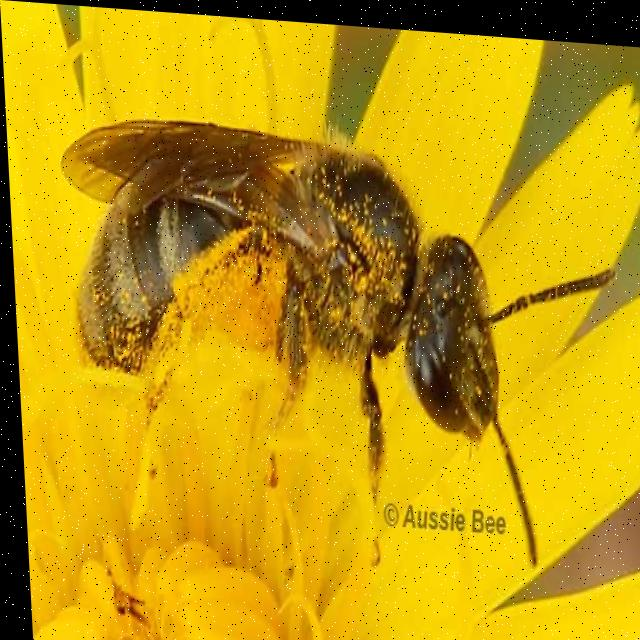Lasioglossum: (65, 67, 544, 568)
